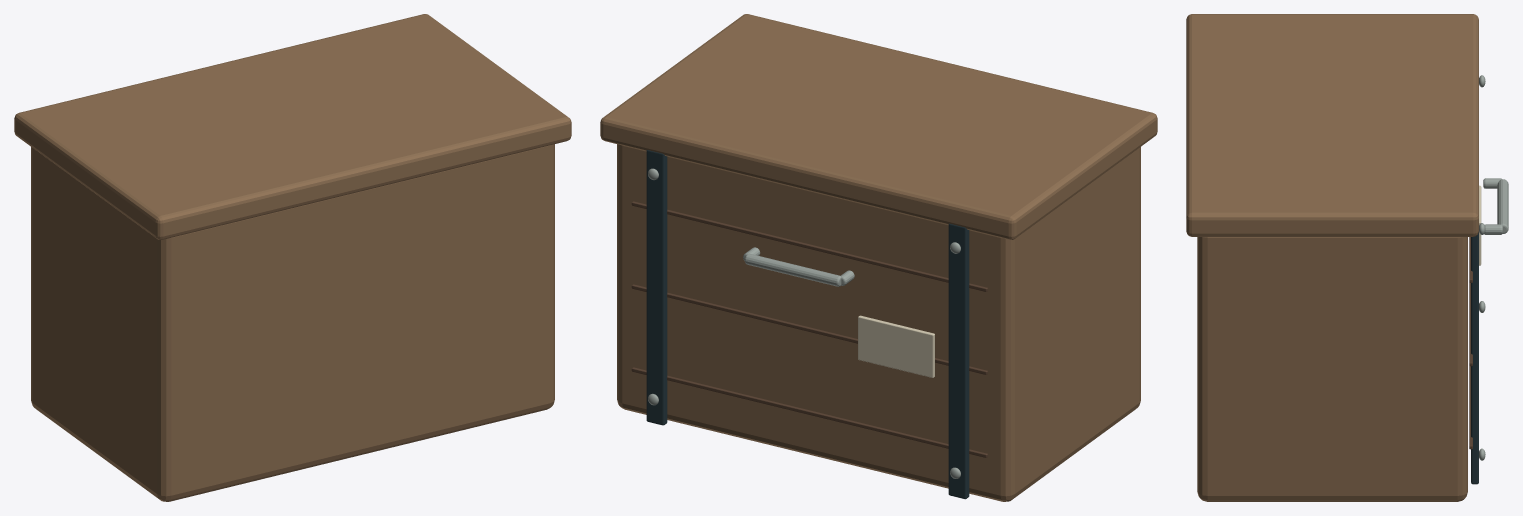
The model's file is crate.fbx.
3 views of the same model, side by side, from view 1: azimuth 30°, elevation 25°; view 2: azimuth 150°, elevation 25°; view 3: azimuth 270°, elevation 25° (orthographic).
Parts seen in each view (by area): view 1: crate; view 2: crate; view 3: crate.
Boxes of the visible parts, <box> form: crate: <box>14,14,571,501</box>; crate: <box>600,14,1157,501</box>; crate: <box>1186,14,1508,501</box>.
Size of the model in its own units: 110 by 74.5 by 73.8.
